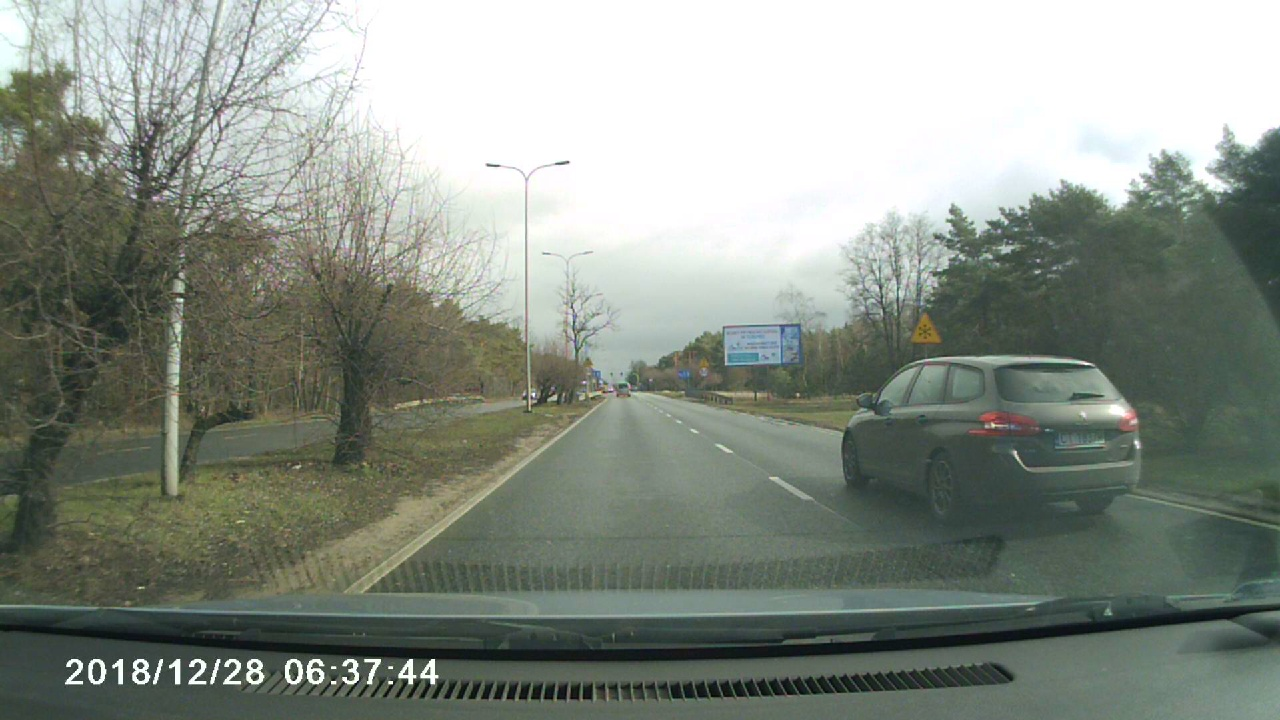A32: (907, 309, 946, 345)
